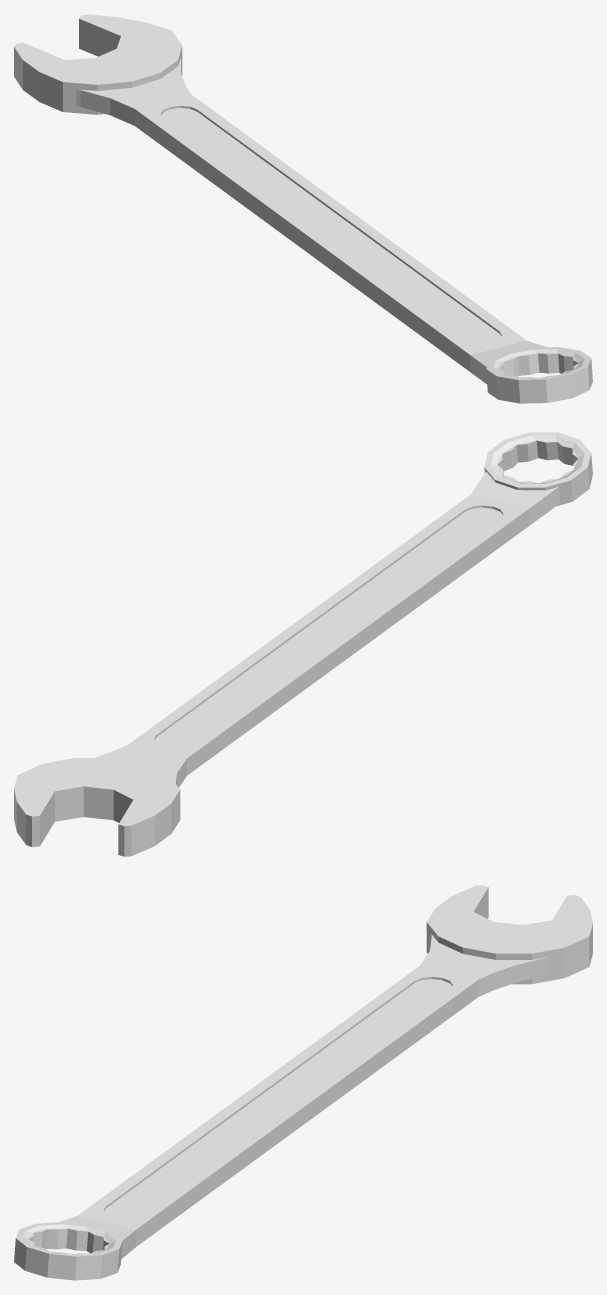
File: Wrench.fbx
3 views of the same model, one above another, from view 1: azimuth 30°, elevation 25°; view 2: azimuth 150°, elevation 25°; view 3: azimuth 330°, elevation 25° (orthographic).
Parts seen in each view (by area): view 1: Wrench; view 2: Wrench; view 3: Wrench.
Part boxes in pixels (bbox=[...]): Wrench: bbox=[14, 14, 592, 403]; Wrench: bbox=[14, 432, 592, 856]; Wrench: bbox=[14, 885, 592, 1280].
Bounding box in the file's own units: 0.1053 × 0.0302 × 0.6491.
